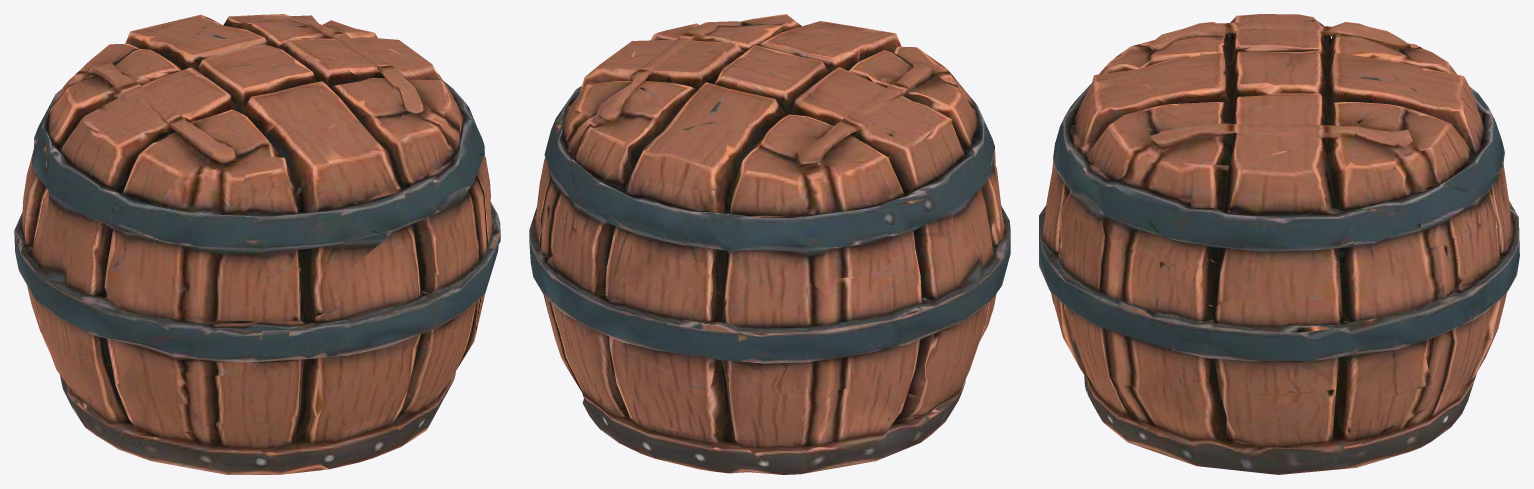
File: barrel.glb
3 renders of one model, left to right at view 1: azimuth 30°, elevation 25°; view 2: azimuth 150°, elevation 25°; view 3: azimuth 270°, elevation 25°, orthographic.
Visible parts, largest first — view 1: 0; view 2: 0; view 3: 0.
Part boxes in pixels (x1,y1,x2,y2): 0: (14,14,500,474); 0: (529,14,1010,474); 0: (1039,14,1519,474).
Bounding box in the file's own units: 1.91 × 1.44 × 1.89.
Materials: 1 (1 with a texture image).
